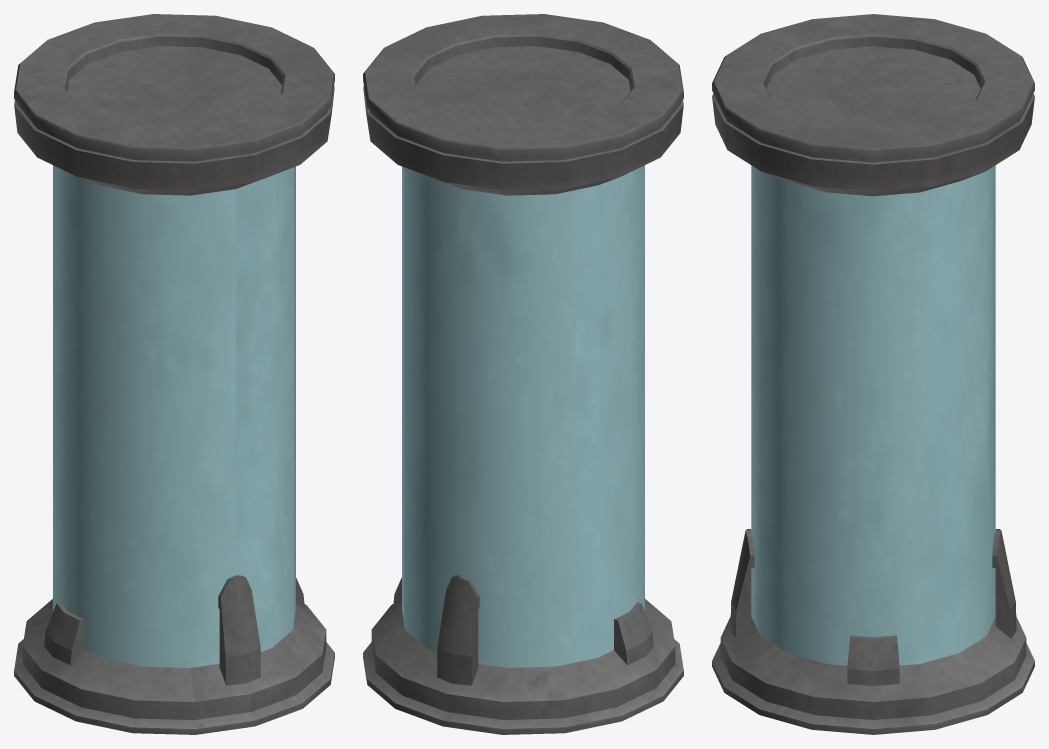
Rendered from 2unity.fbx.
3 renders of one model, left to right at view 1: azimuth 30°, elevation 25°; view 2: azimuth 150°, elevation 25°; view 3: azimuth 270°, elevation 25°, orthographic.
Parts seen in each view (by area): view 1: polySurface1, polySurface6, polySurface7; view 2: polySurface1, polySurface6, polySurface7; view 3: polySurface1, polySurface6, polySurface7.
Part boxes in pixels (x1,y1,x2,y2): polySurface1: (53,165,295,667); polySurface6: (14,14,334,195); polySurface7: (14,575,334,734); polySurface1: (402,165,644,667); polySurface6: (363,14,683,195); polySurface7: (363,575,683,734); polySurface1: (751,165,995,665); polySurface6: (712,14,1034,196); polySurface7: (712,529,1034,734).
Size of the model in its own units: 100 by 200 by 100.
